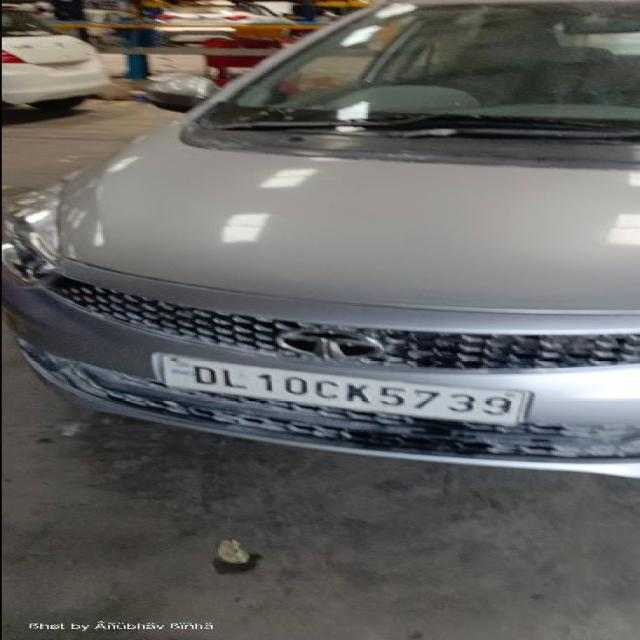license_plate: (150, 351, 534, 427)
